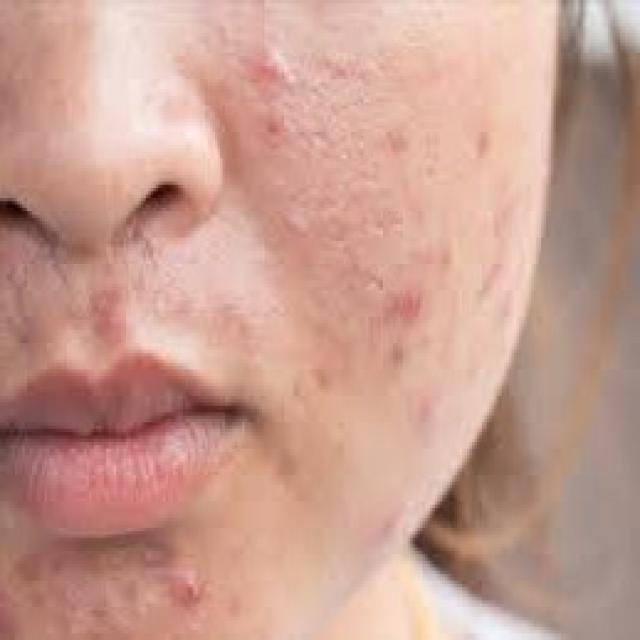Acne: (478, 198, 530, 346), (283, 210, 397, 256), (0, 240, 42, 360), (94, 551, 158, 614), (88, 264, 138, 343), (254, 48, 304, 118), (168, 549, 215, 619), (378, 286, 438, 338), (309, 360, 346, 416), (382, 120, 424, 166), (256, 114, 288, 170), (269, 451, 304, 494), (15, 554, 54, 587), (471, 120, 498, 160)
